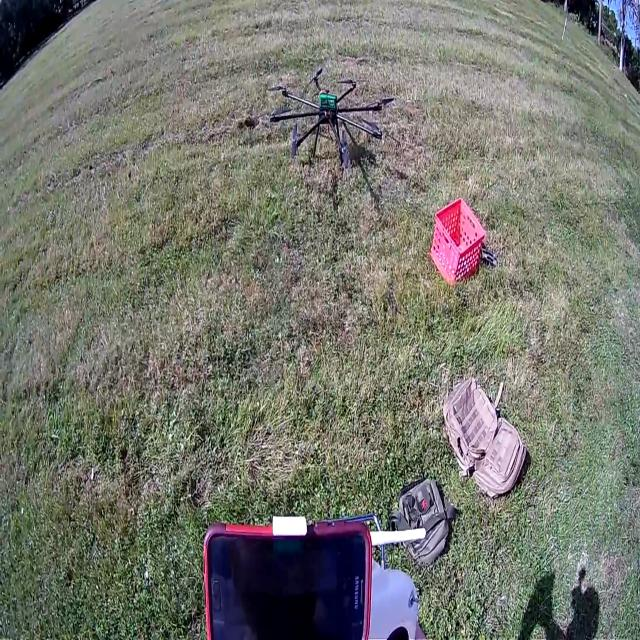drone: (267, 53, 399, 182)
